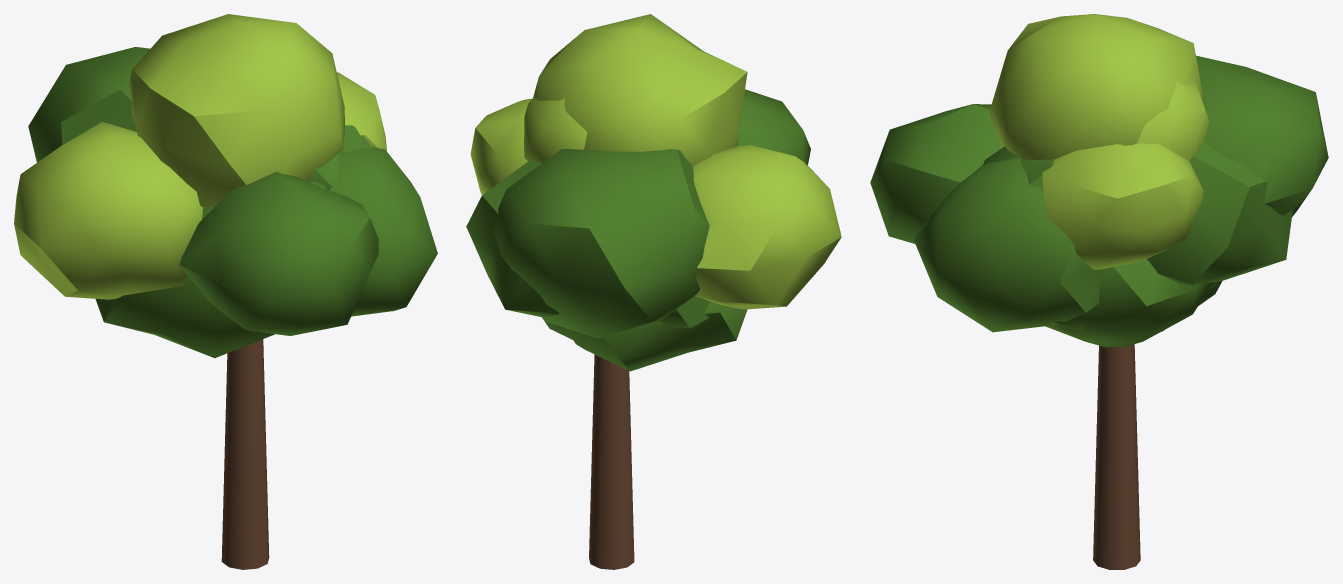
The model's file is tree.fbx.
The picture shows the model from 3 angles, left to right: view 1: azimuth 30°, elevation 25°; view 2: azimuth 150°, elevation 25°; view 3: azimuth 270°, elevation 25°; orthographic projection. The views are drawn at different scales.
Visible parts, largest first — view 1: tree; view 2: tree; view 3: tree.
Boxes of the visible parts, x1,y1,x2,y2 form: tree: (14,14,437,569); tree: (466,14,841,569); tree: (870,14,1328,569).
Size of the model in its own units: 4.74 by 6.99 by 5.39.
